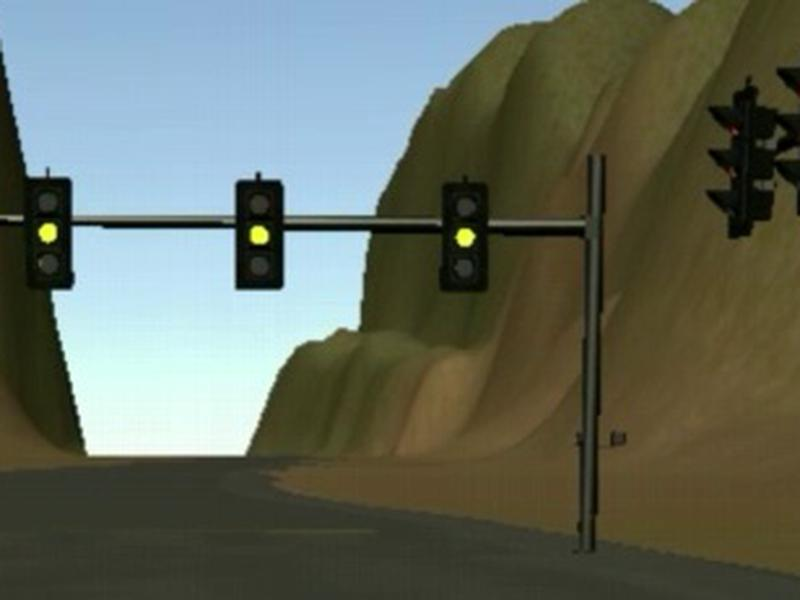Yellow: (21, 174, 74, 289), (234, 179, 285, 291), (439, 181, 490, 292)
